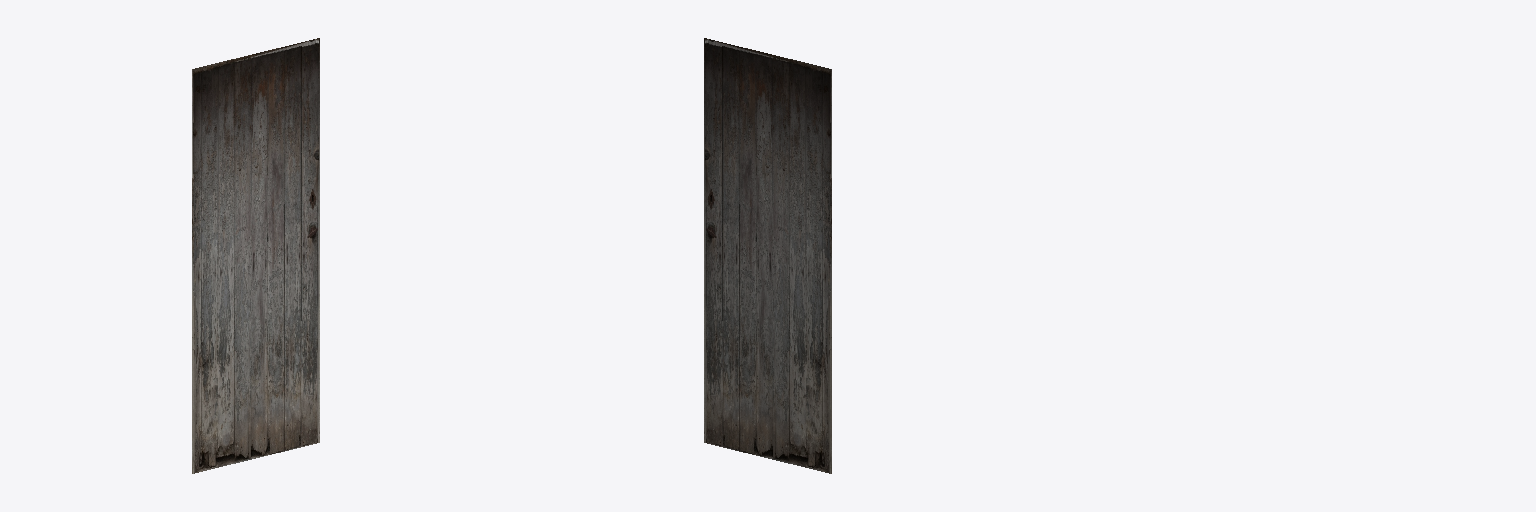
3 renders of one model, left to right at view 1: azimuth 30°, elevation 25°; view 2: azimuth 150°, elevation 25°; view 3: azimuth 270°, elevation 25°, orthographic.
Parts seen in each view (by area): view 1: Mesh_Mesh_wall7; view 2: Mesh_Mesh_wall7; view 3: none.
Part boxes in pixels (left/top/right/bottom): Mesh_Mesh_wall7: left=192, top=38, right=319, bottom=473; Mesh_Mesh_wall7: left=704, top=38, right=831, bottom=473.
Size of the model in its own units: 0.9 by 2.7 by 0.
1 materials, 1 textured.